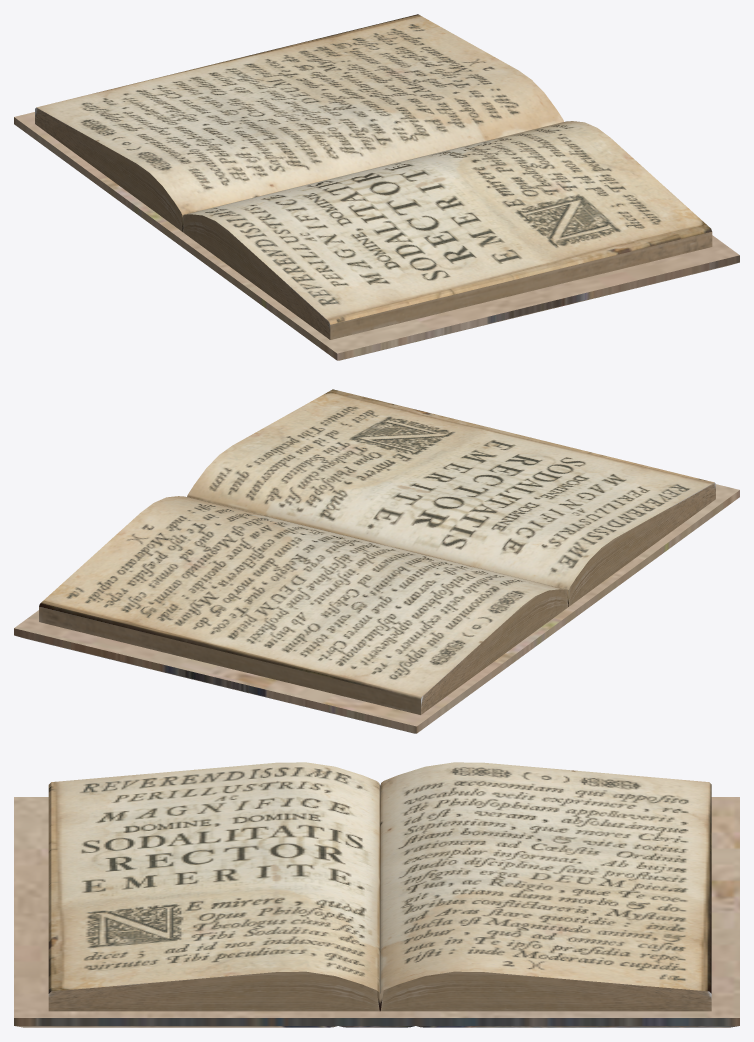
The model's file is livre_ouvert.fbx.
3 views of the same model, one above another, from view 1: azimuth 30°, elevation 25°; view 2: azimuth 150°, elevation 25°; view 3: azimuth 270°, elevation 25° (orthographic). The views are drawn at different scales.
Parts seen in each view (by area): view 1: livre_ouvert; view 2: livre_ouvert; view 3: livre_ouvert.
Boxes of the visible parts, x1,y1,x2,y2 form: livre_ouvert: [14, 14, 739, 360]; livre_ouvert: [14, 389, 739, 733]; livre_ouvert: [14, 762, 739, 1027].
Size of the model in its own units: 49.5 by 5.8 by 68.79.
1 material, 1 textured.
